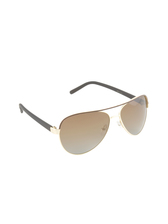glasses: (15, 78, 152, 155)
